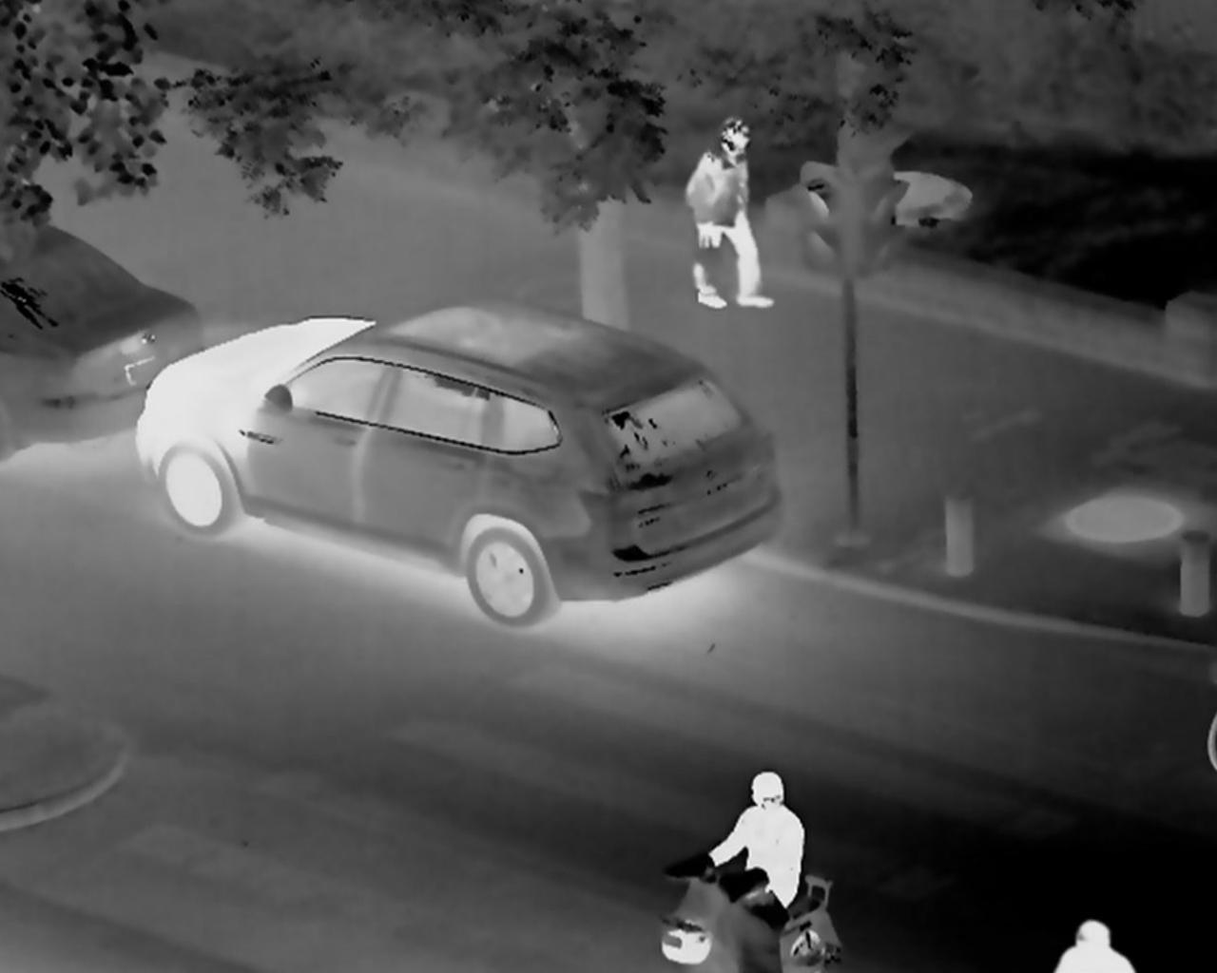person: (721, 749, 812, 924), (693, 128, 762, 305), (1036, 908, 1144, 973)
